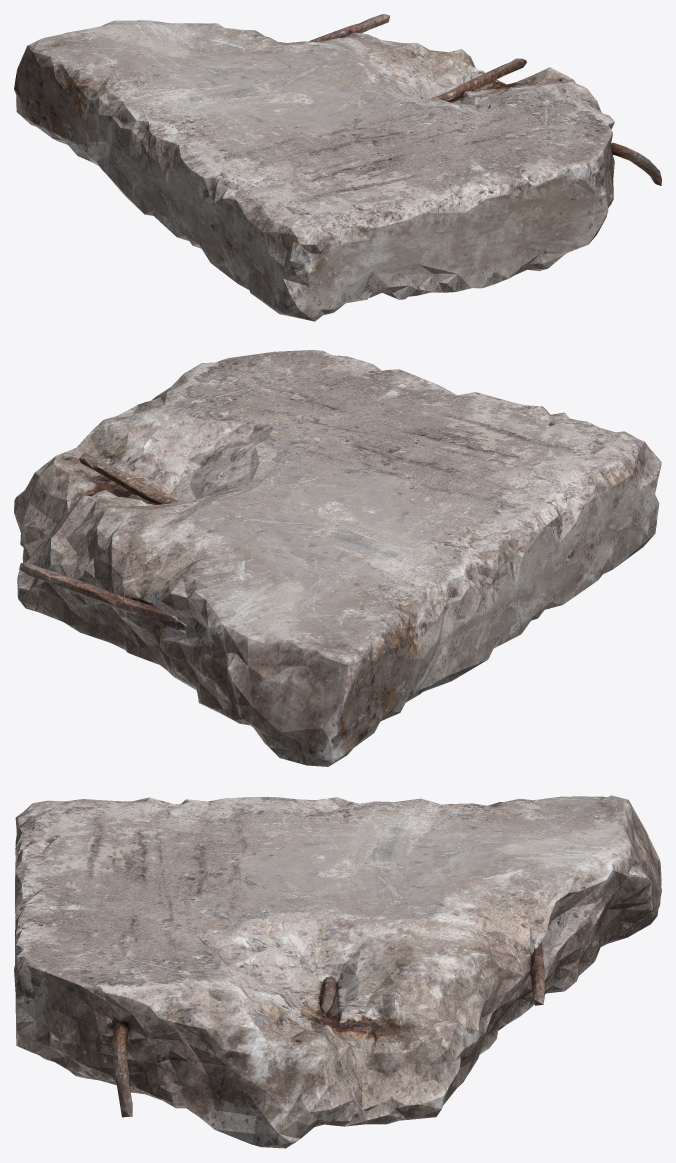
Rendered from LIN99DC6515E9MMPCT1P35R39.obj.
3 renders of one model, top to bottom at view 1: azimuth 30°, elevation 25°; view 2: azimuth 150°, elevation 25°; view 3: azimuth 270°, elevation 25°, orthographic. The views are drawn at different scales.
Parts seen in each view (by area): view 1: Object_TexMap; view 2: Object_TexMap; view 3: Object_TexMap.
Boxes of the visible parts, bbox=[...] form: Object_TexMap: bbox=[14, 14, 661, 321]; Object_TexMap: bbox=[14, 350, 661, 766]; Object_TexMap: bbox=[14, 795, 661, 1148].
Size of the model in its own units: 2.21 by 0.5417 by 2.5.
Materials: 1 (1 with a texture image).
